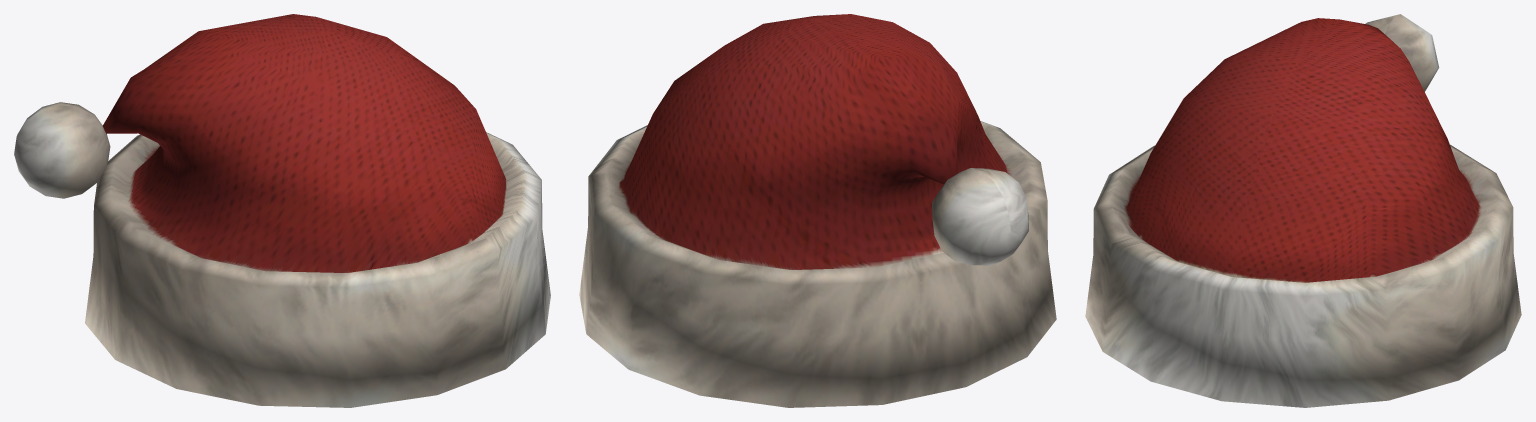
File: M_SantahatA.glb
3 renders of one model, left to right at view 1: azimuth 30°, elevation 25°; view 2: azimuth 150°, elevation 25°; view 3: azimuth 270°, elevation 25°, orthographic. The views are drawn at different scales.
Parts seen in each view (by area): view 1: SM_SantahatA; view 2: SM_SantahatA; view 3: SM_SantahatA.
Part boxes in pixels (box(x1,y1,x2,y2)): SM_SantahatA: box(14, 14, 550, 407); SM_SantahatA: box(579, 14, 1056, 407); SM_SantahatA: box(1085, 14, 1521, 407).
Size of the model in its own units: 0.5337 by 0.3139 by 0.4804.
1 material, 1 textured.
